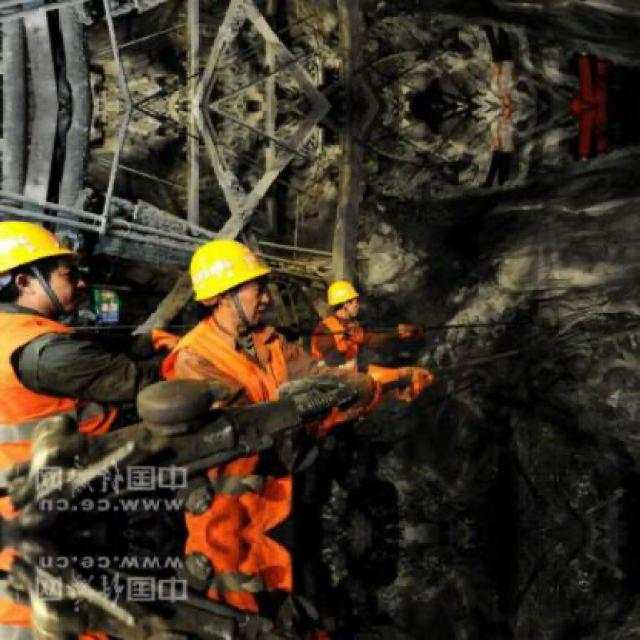helmet: (180, 236, 271, 328), (3, 218, 83, 316), (323, 277, 363, 324)
